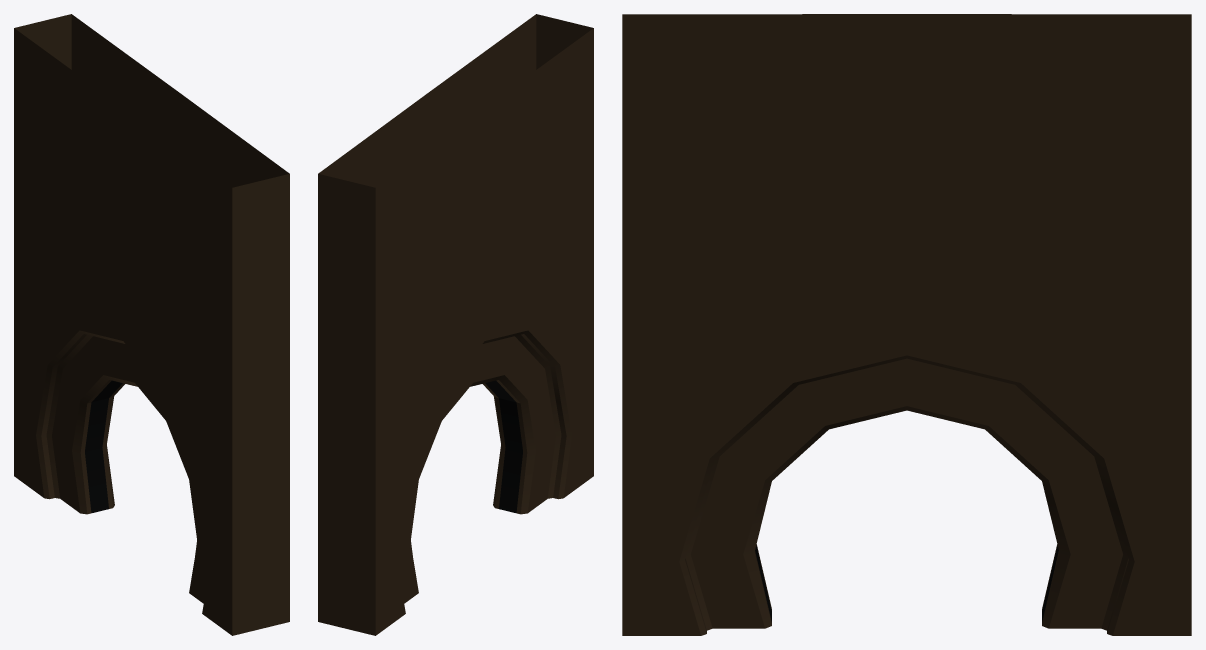
The model's file is OBJ_Cadre_Porte.fbx.
The picture shows the model from 3 angles, left to right: view 1: azimuth 30°, elevation 25°; view 2: azimuth 150°, elevation 25°; view 3: azimuth 270°, elevation 25°; orthographic projection. The views are drawn at different scales.
Parts seen in each view (by area): view 1: TEXTURE_Contoure_Porte001; view 2: TEXTURE_Contoure_Porte001; view 3: TEXTURE_Contoure_Porte001.
Boxes of the visible parts, x1,y1,x2,y2 form: TEXTURE_Contoure_Porte001: (14,14,289,635); TEXTURE_Contoure_Porte001: (318,14,593,635); TEXTURE_Contoure_Porte001: (622,14,1191,635).
Size of the model in its own units: 152 by 1134 by 1000.
